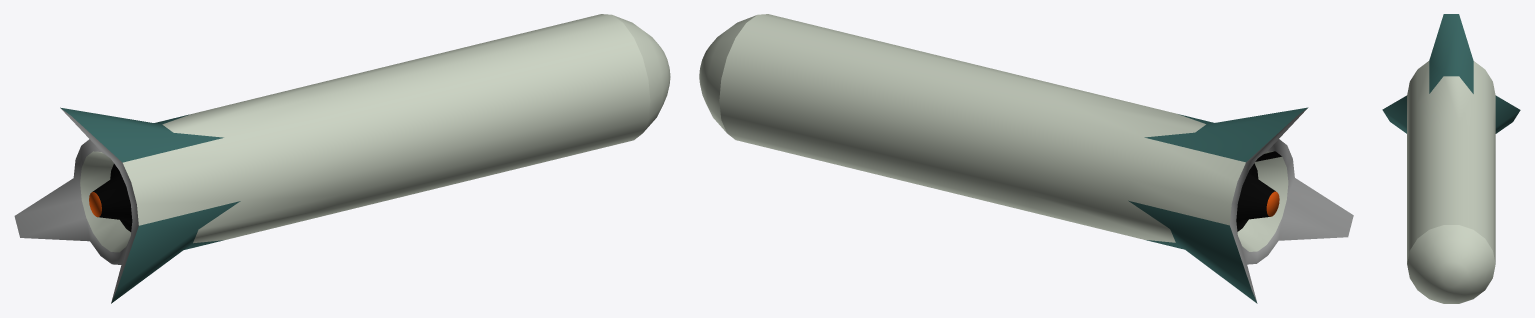
Rendered from Missle.FBX.
3 views of the same model, side by side, from view 1: azimuth 30°, elevation 25°; view 2: azimuth 150°, elevation 25°; view 3: azimuth 270°, elevation 25° (orthographic). The views are drawn at different scales.
Visible parts, largest first — view 1: Cylinder001; view 2: Cylinder001; view 3: Cylinder001.
Part boxes in pixels (x1,y1,x2,y2): Cylinder001: [14, 14, 670, 303]; Cylinder001: [699, 14, 1353, 303]; Cylinder001: [1382, 14, 1520, 303].
Size of the model in its own units: 56.68 by 16.8 by 14.47.
1 material, 1 textured.
